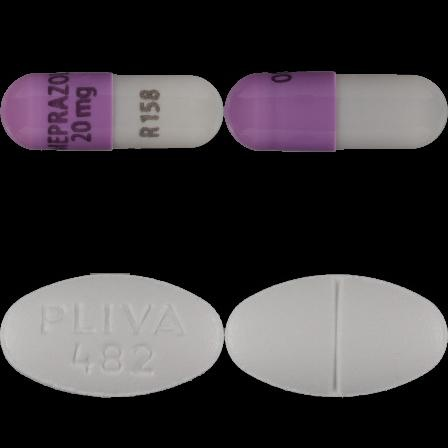0615-2305: (0, 0, 224, 224)
